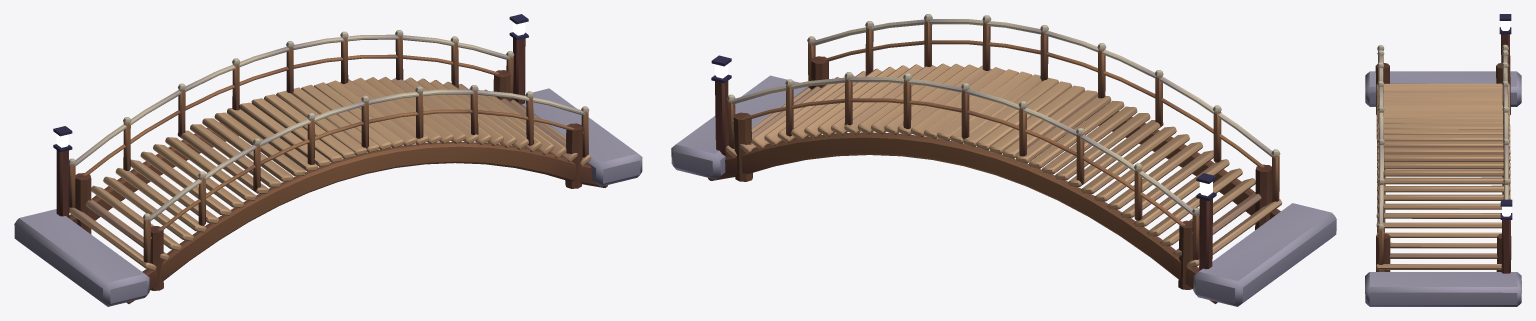
The model's file is common_town_bridge.glb.
The picture shows the model from 3 angles, left to right: view 1: azimuth 30°, elevation 25°; view 2: azimuth 150°, elevation 25°; view 3: azimuth 270°, elevation 25°; orthographic projection. The views are drawn at different scales.
Parts seen in each view (by area): view 1: common_town_bridge; view 2: common_town_bridge; view 3: common_town_bridge.
Boxes of the visible parts, x1,y1,x2,y2 form: common_town_bridge: [14, 14, 642, 306]; common_town_bridge: [671, 14, 1336, 306]; common_town_bridge: [1365, 14, 1521, 306].
Bounding box in the file's own units: 11.61 × 3.09 × 3.51.
